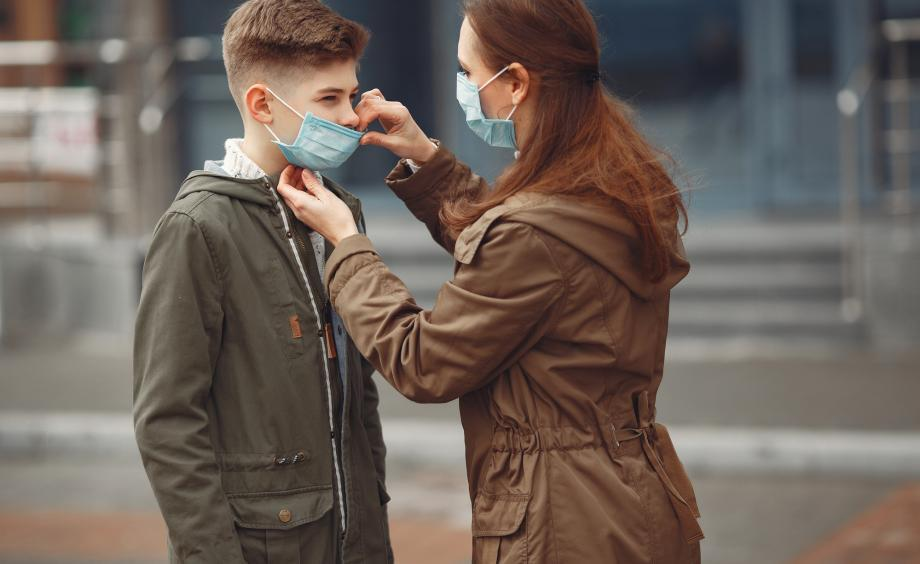Wearing Mask: (447, 2, 625, 164)
Wore Mask Incorrectly: (218, 0, 379, 185)
